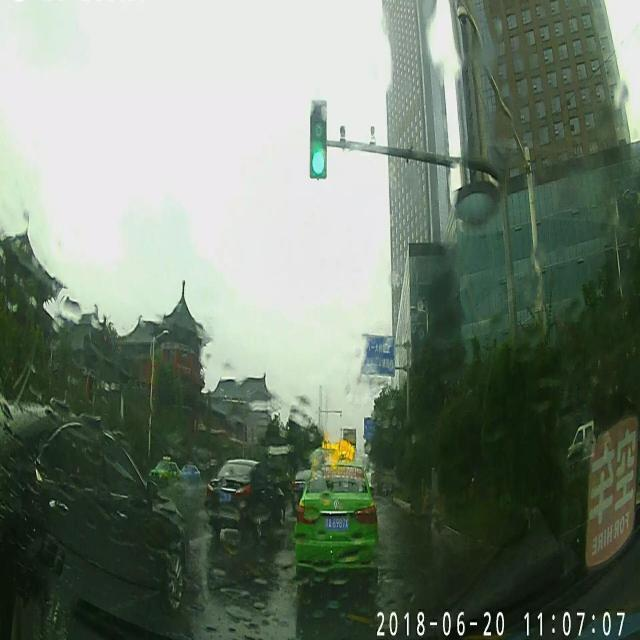car: (0, 410, 189, 628), (296, 460, 378, 570), (204, 458, 284, 540), (149, 458, 181, 485), (179, 463, 199, 483)
